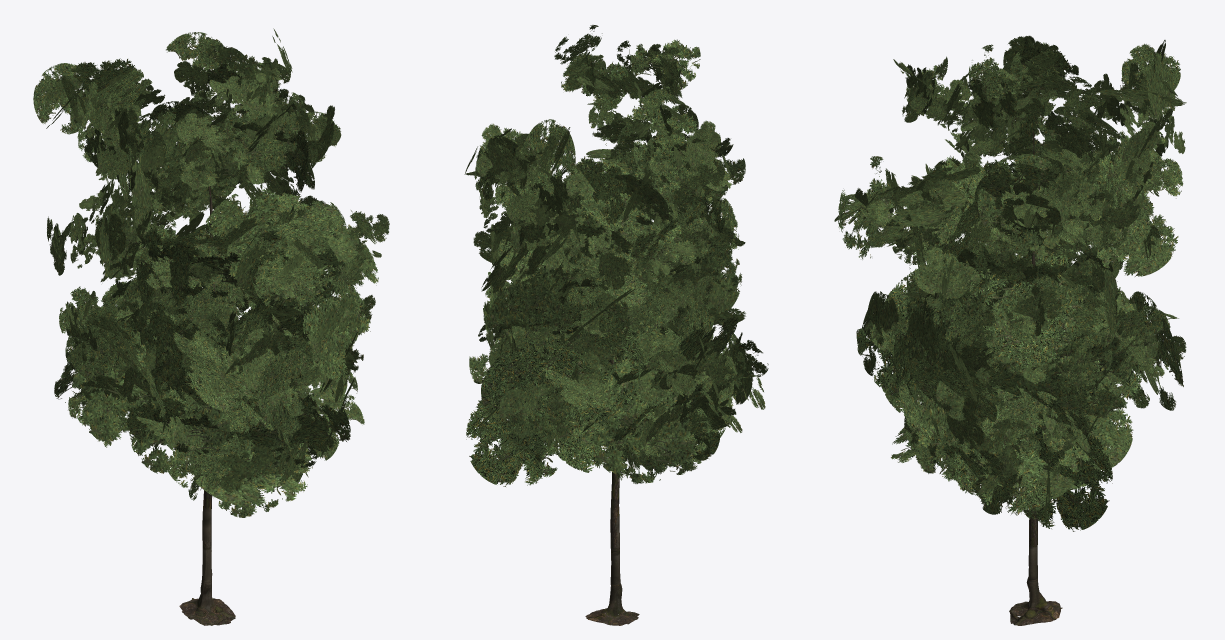
The model's file is las_sosna_b.glb.
The picture shows the model from 3 angles, left to right: view 1: azimuth 30°, elevation 25°; view 2: azimuth 150°, elevation 25°; view 3: azimuth 270°, elevation 25°; orthographic projection. The views are drawn at different scales.
Visible parts, largest first — view 1: liscie_2, liscie_1, liscie_0, pien; view 2: liscie_2, liscie_1, liscie_0, pien; view 3: liscie_2, liscie_1, liscie_0, pien.
Part boxes in pixels (x1,y1,x2,y2): liscie_2: (33, 28, 370, 507); liscie_1: (44, 45, 381, 517); liscie_0: (50, 57, 389, 492); pien: (179, 186, 235, 625); liscie_2: (465, 25, 765, 486); liscie_1: (469, 40, 753, 483); liscie_0: (464, 44, 768, 473); pien: (585, 357, 639, 625); liscie_2: (838, 38, 1186, 531); liscie_1: (834, 36, 1183, 515); liscie_0: (843, 35, 1186, 498); pien: (1009, 131, 1062, 625).
Bounding box in the file's own units: 8.26 × 15.53 × 9.03.
Materials: 2 (2 with a texture image).
